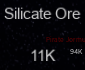Silicate: (4, 7, 82, 62)
